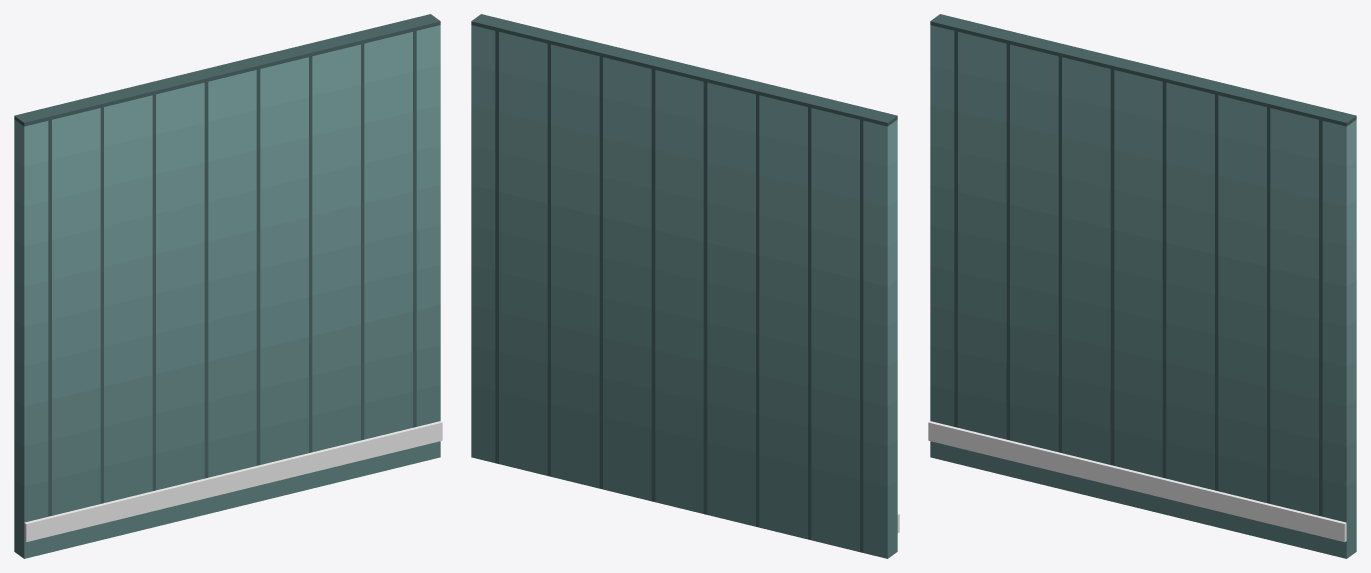
Rendered from wall01_test.obj.
The picture shows the model from 3 angles, left to right: view 1: azimuth 30°, elevation 25°; view 2: azimuth 150°, elevation 25°; view 3: azimuth 330°, elevation 25°; orthographic projection.
Bounding box in the file's own units: 12 × 12 × 0.6.
Materials: 1 (1 with a texture image).
